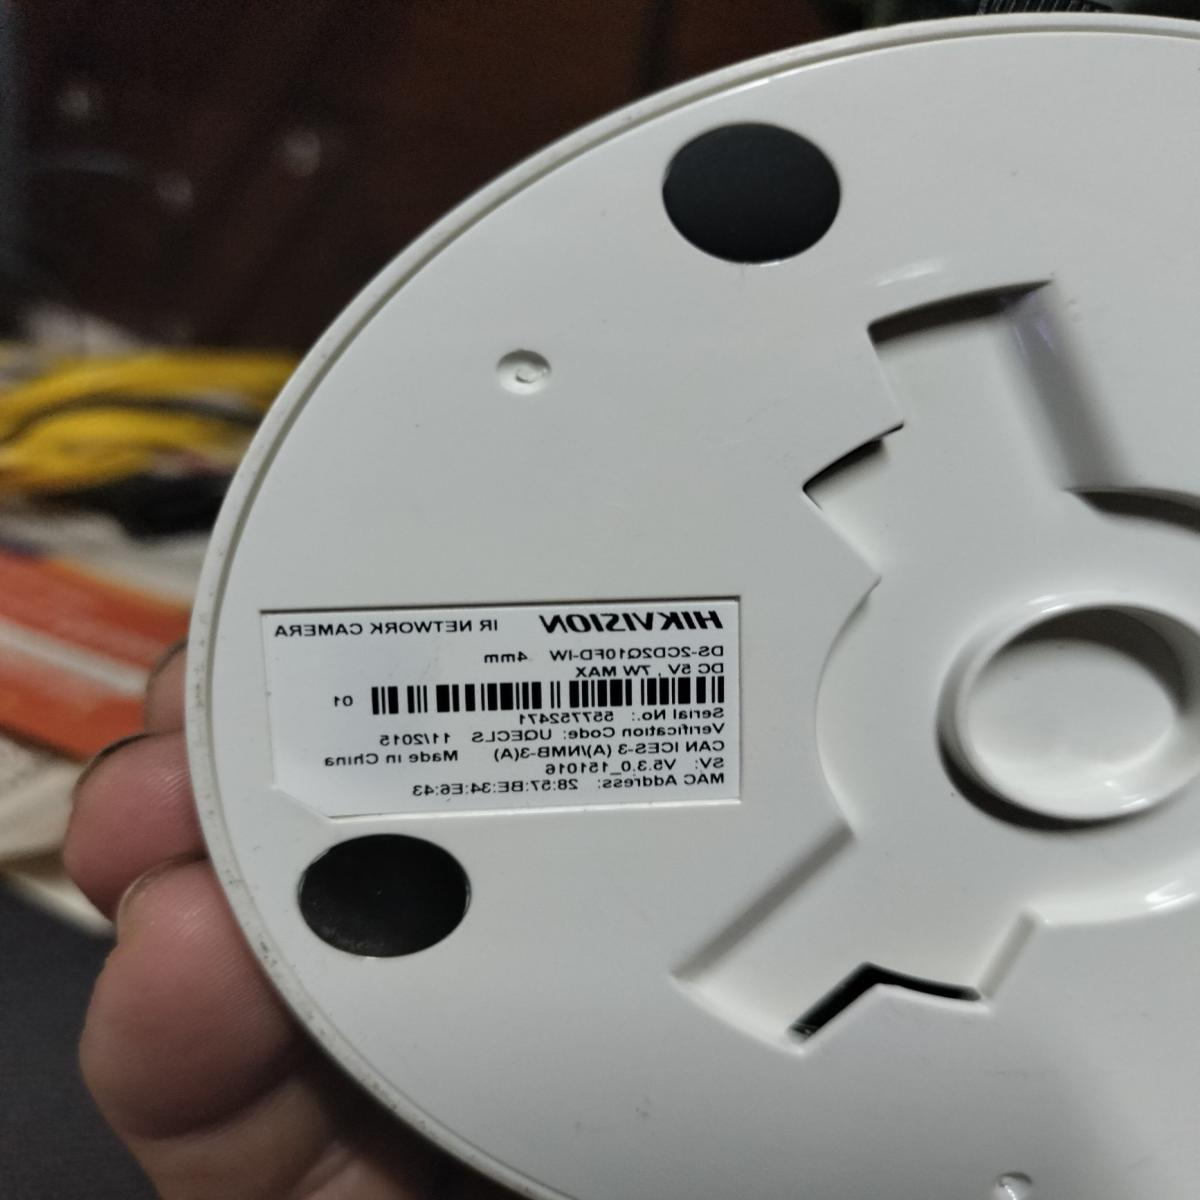Barcode: (367, 673, 725, 720)
Label: (266, 603, 730, 819)
